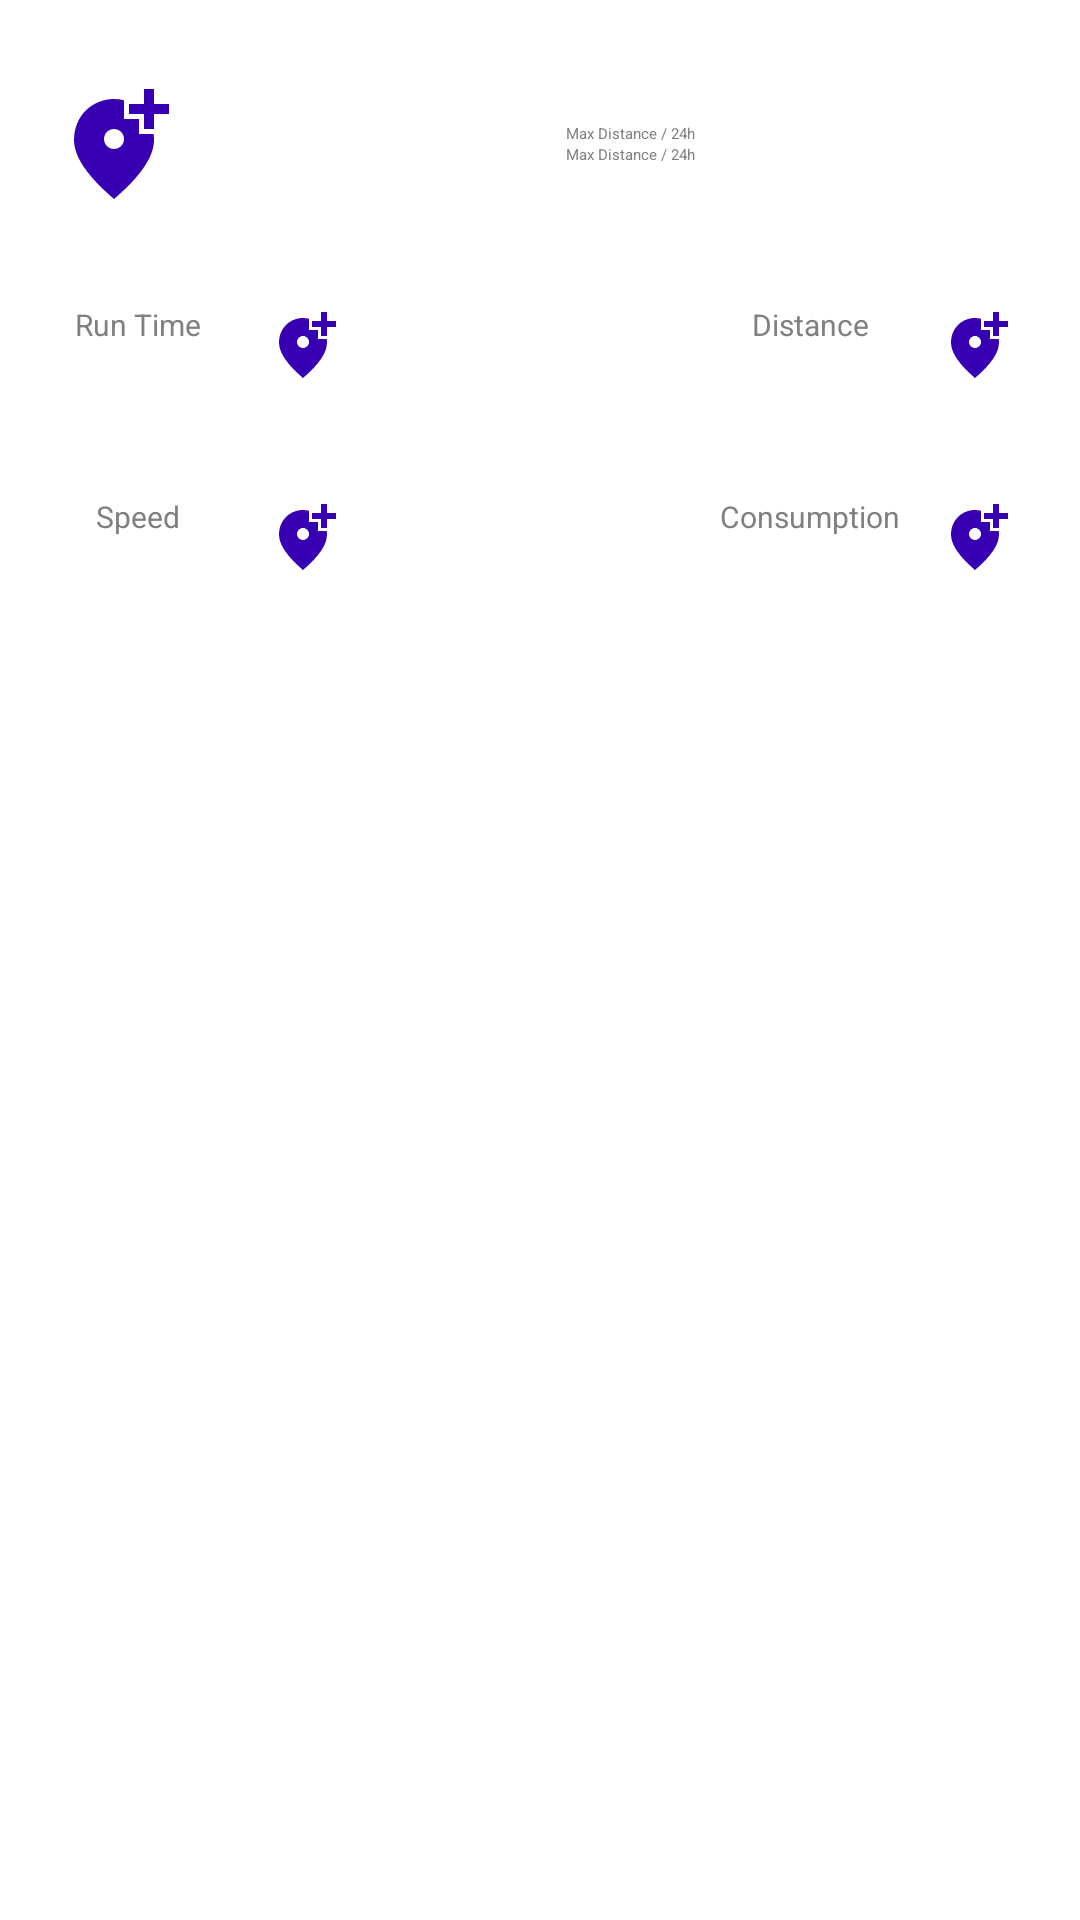

Where to tap for icons on this 1080*1920 app screen, as [x,y]:
add location: [121,144], [307,345], [979,345], [307,537], [979,537]
